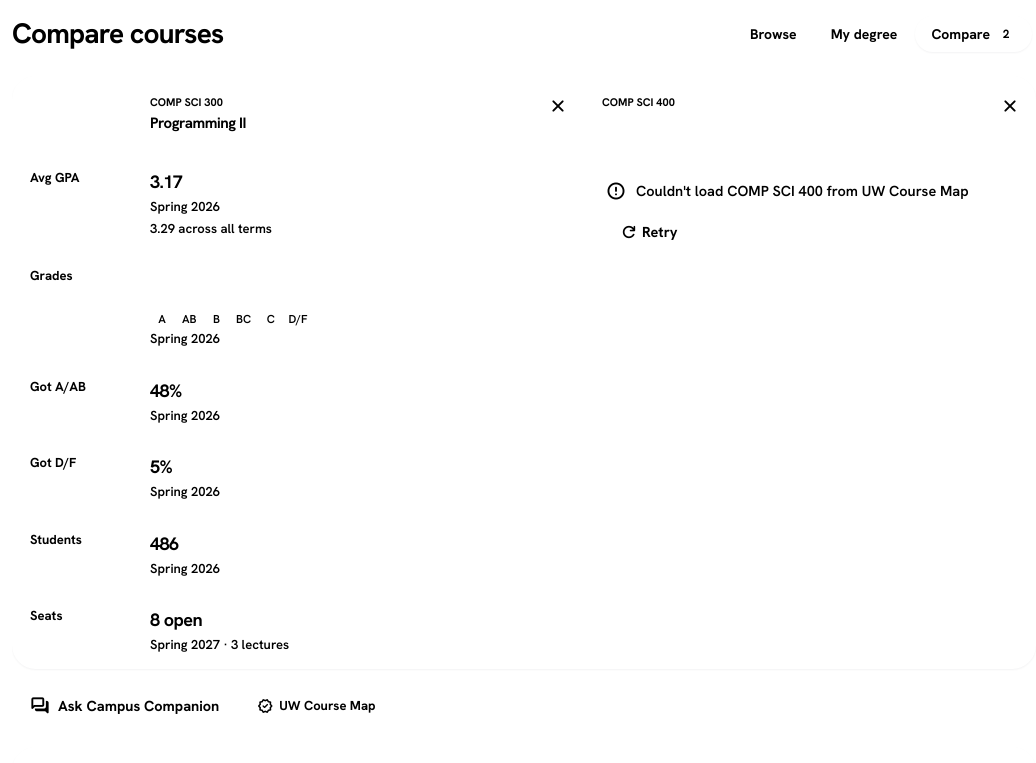
a column that fails to load shows its own error and retries
Expected: the text "Couldn't load COMP SCI 400 from UW Course Map" is shown, 636,180 -> 969,202
Expected: the text "3.17" is shown, 150,170 -> 182,193
Click the button "Retry": (649, 232) 606,210 -> 692,254
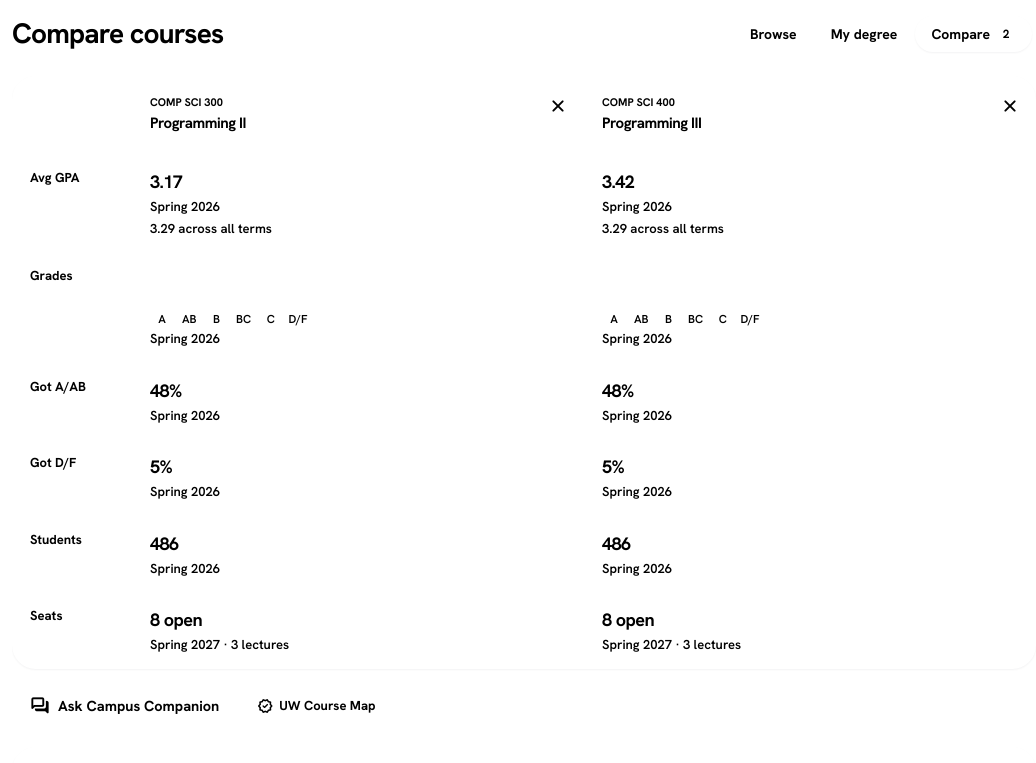
Expected: the text "3.42" is shown, 602,170 -> 634,193
Expected: the text "Couldn't load COMP SCI 400 from UW Course Map" is gone
